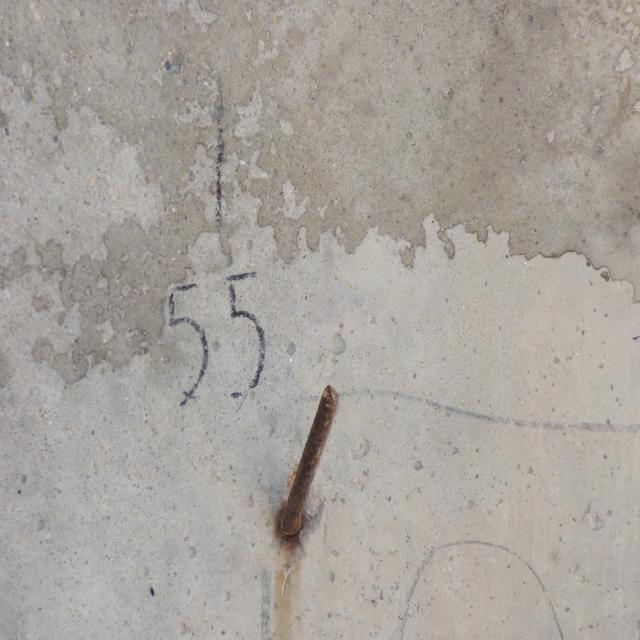corrosion: (277, 380, 346, 633)
